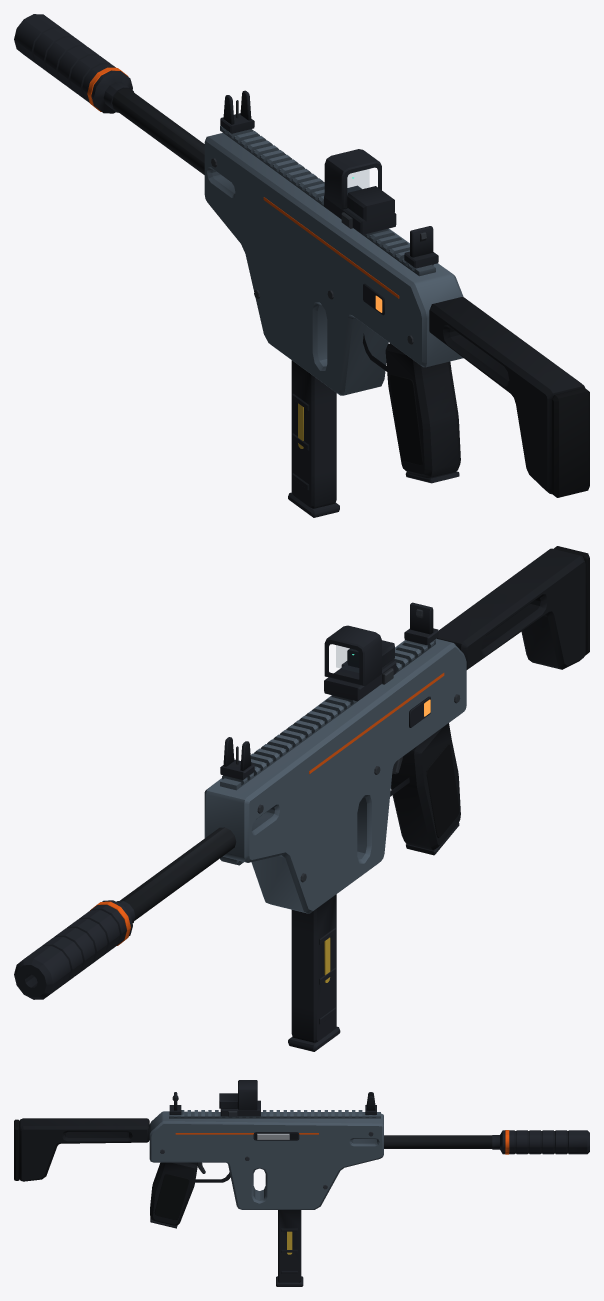
Rendered from vector.glb.
3 views of the same model, one above another, from view 1: azimuth 30°, elevation 25°; view 2: azimuth 150°, elevation 25°; view 3: azimuth 270°, elevation 25° (orthographic). The views are drawn at different scales.
Visible parts, largest first — view 1: body_frame, body_polymer, body_frame2, mag_frame2, body_rubber, body_steel, body_accent; view 2: body_frame, body_polymer, body_frame2, mag_frame2, body_steel, body_rubber, body_accent; view 3: body_frame, body_polymer, body_frame2, mag_frame2, body_steel, body_rubber, body_accent.
Boxes of the visible parts, <box> form: body_frame: <box>204,125,463,395</box>; body_polymer: <box>385,297,584,494</box>; body_frame2: <box>14,14,459,483</box>; mag_frame2: <box>288,360,339,517</box>; body_rubber: <box>390,374,589,497</box>; body_steel: <box>112,88,427,344</box>; body_accent: <box>87,67,399,298</box>; body_frame: <box>204,638,466,913</box>; body_polymer: <box>391,548,585,850</box>; body_frame2: <box>14,602,459,999</box>; mag_frame2: <box>288,894,340,1051</box>; body_steel: <box>120,609,460,920</box>; body_rubber: <box>426,546,589,837</box>; body_accent: <box>90,673,444,945</box>; body_frame: <box>149,1110,383,1209</box>; body_polymer: <box>19,1118,297,1225</box>; body_frame2: <box>150,1080,589,1228</box>; mag_frame2: <box>276,1210,303,1286</box>; body_steel: <box>160,1095,492,1189</box>; body_rubber: <box>14,1119,189,1219</box>; body_accent: <box>175,1130,509,1154</box>.
Bounding box in the file's own units: 0.0475 × 0.3385 × 0.884.
